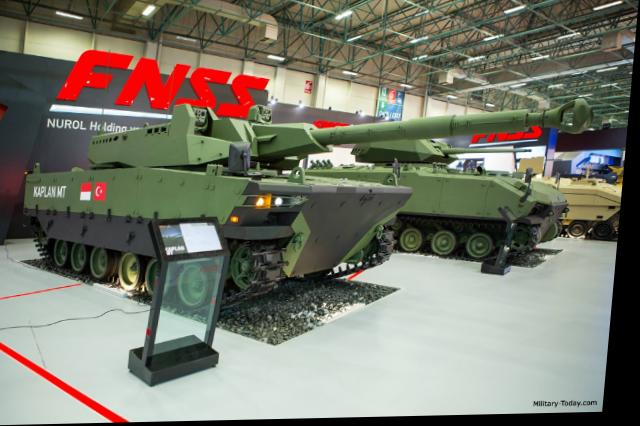tank: (16, 107, 419, 305), (356, 89, 617, 248)
